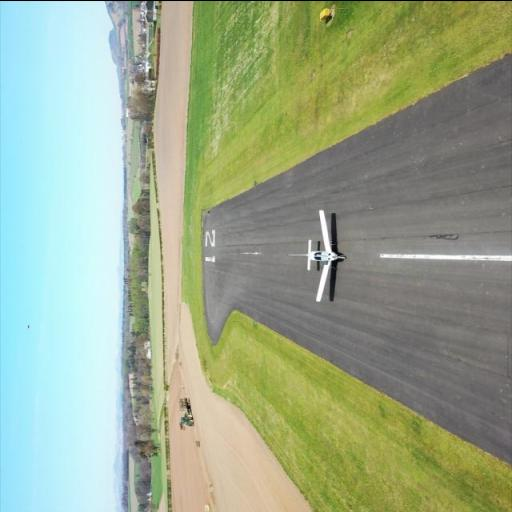uav: (290, 204, 352, 304)
